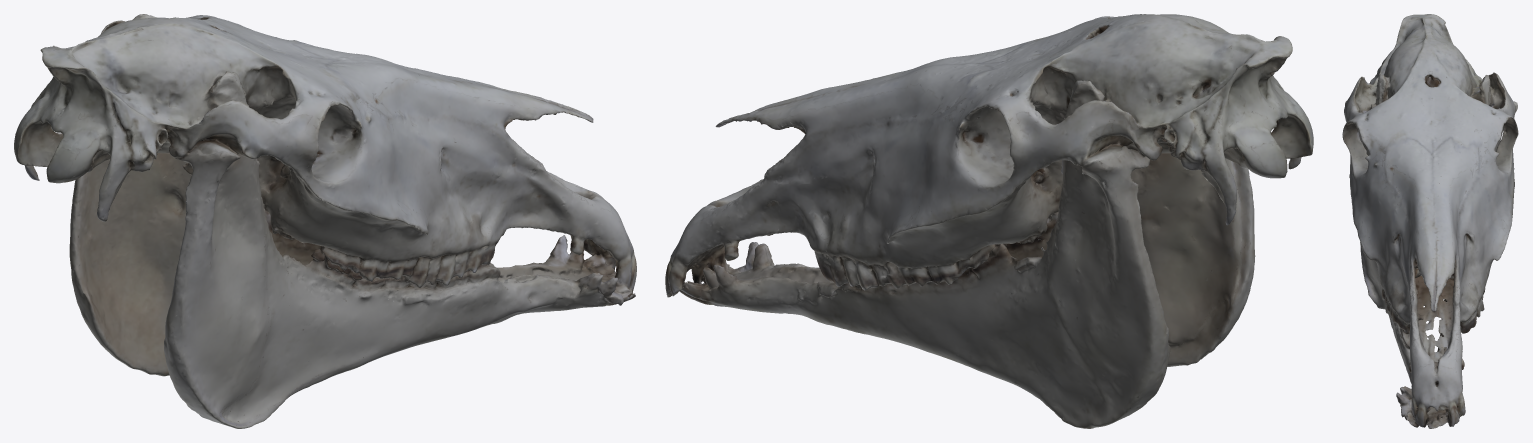
File: horse_skull.glb
The picture shows the model from 3 angles, left to right: view 1: azimuth 30°, elevation 25°; view 2: azimuth 150°, elevation 25°; view 3: azimuth 270°, elevation 25°; orthographic projection. The views are drawn at different scales.
Visible parts, largest first — view 1: meshNode; view 2: meshNode; view 3: meshNode.
Part boxes in pixels (x1,y1,x2,y2): meshNode: [14, 14, 636, 428]; meshNode: [665, 14, 1313, 428]; meshNode: [1342, 14, 1518, 428].
Size of the model in its own units: 3282 by 2029 by 1309.
1 material, 1 textured.
